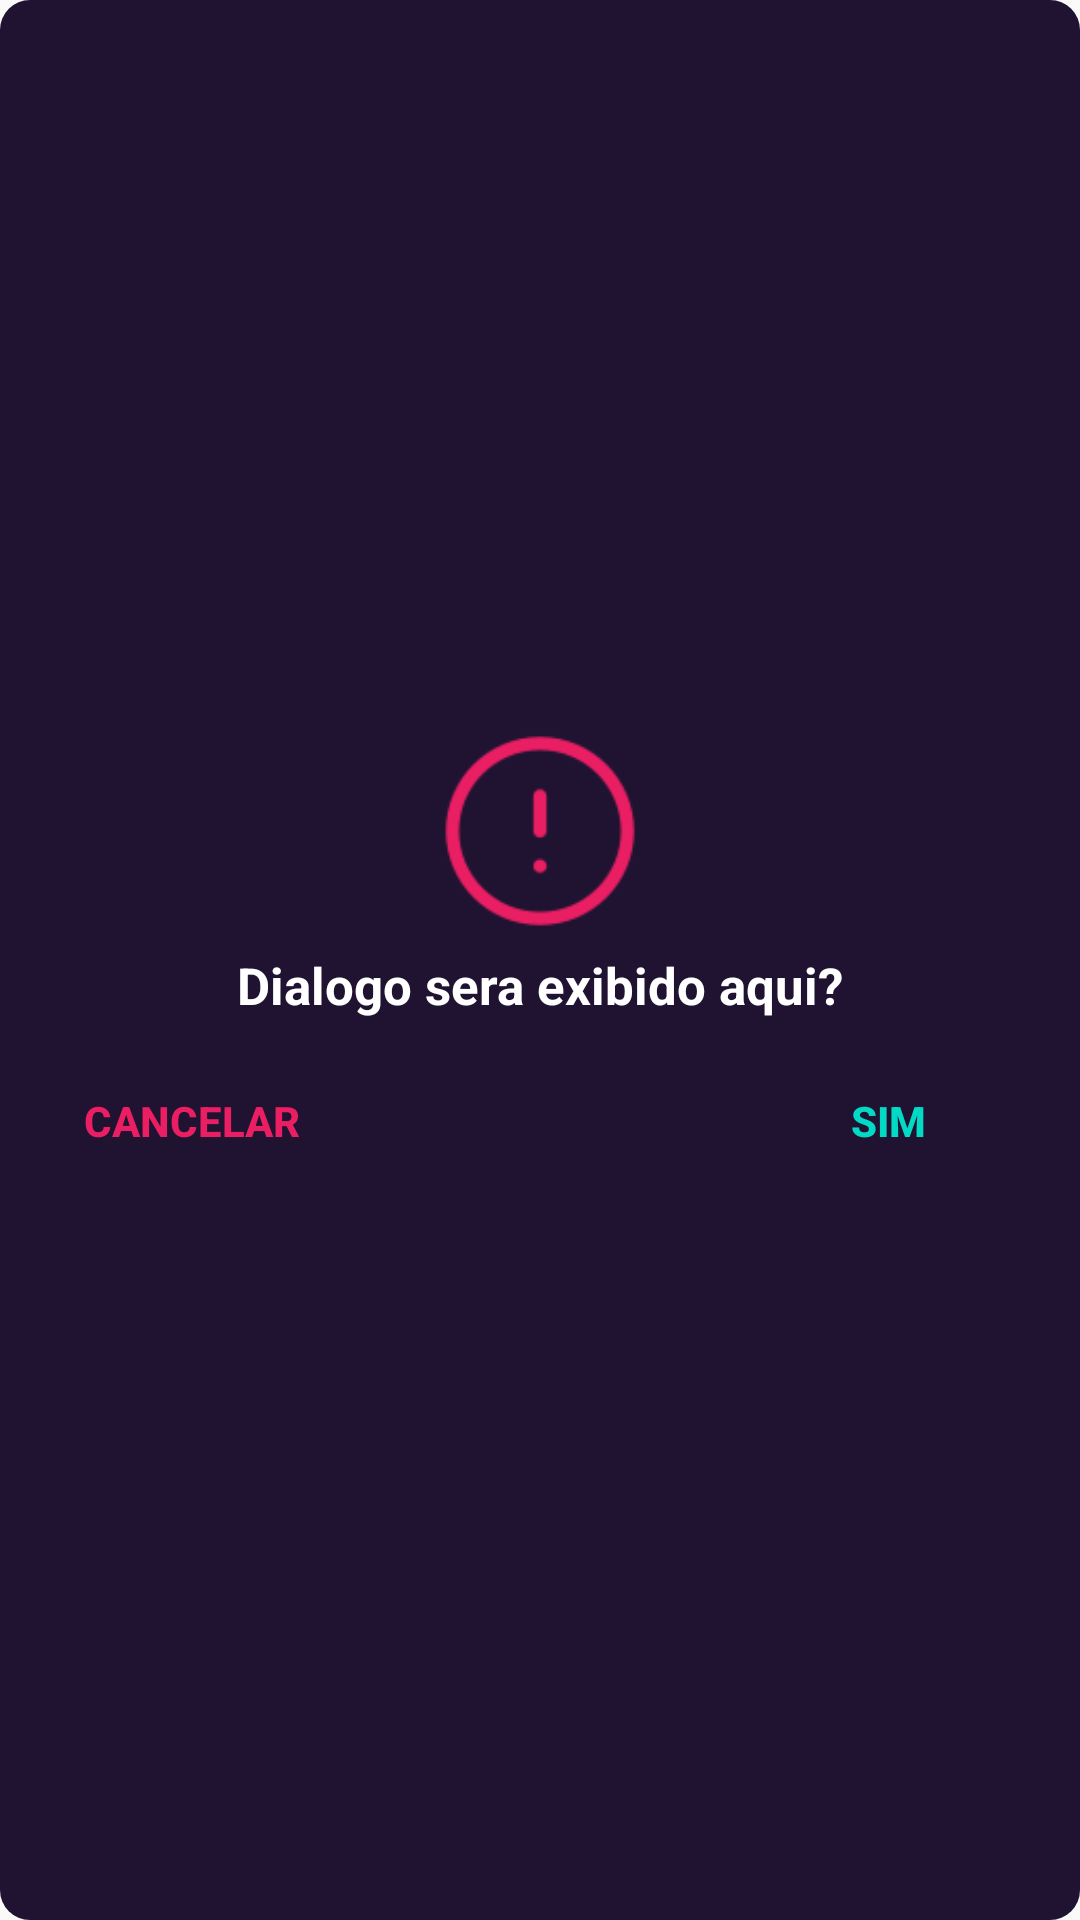

Where to tap for icons on this 1080x1920 app screen, as (x,y):
alert circle: (540,831)
